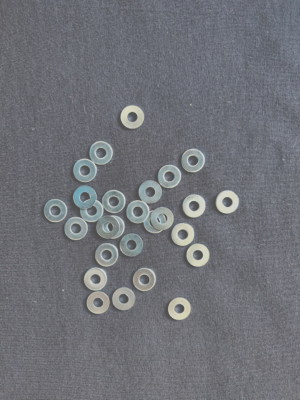circle: (94, 242, 121, 269), (166, 296, 193, 323), (181, 194, 207, 222), (43, 196, 68, 225), (79, 197, 105, 223), (138, 180, 164, 206), (186, 243, 212, 269), (118, 106, 146, 130), (82, 267, 107, 293), (63, 216, 88, 242), (89, 140, 114, 166), (181, 148, 206, 174), (118, 234, 144, 259), (133, 267, 159, 292), (112, 287, 137, 313), (216, 189, 241, 215), (157, 165, 182, 190), (86, 291, 111, 315), (126, 200, 150, 225), (172, 223, 196, 248), (99, 216, 125, 239), (102, 190, 126, 214), (74, 159, 98, 183), (143, 210, 167, 234), (97, 215, 120, 239), (73, 187, 97, 209), (152, 207, 174, 231)
